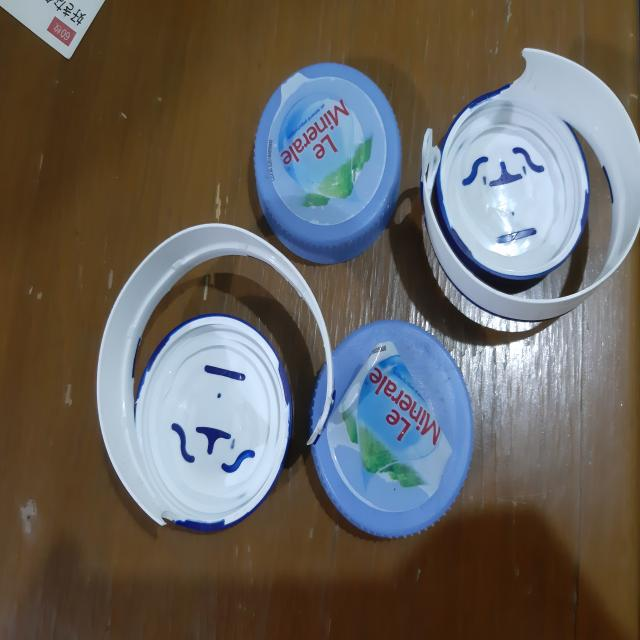TutupGalon: (95, 37, 640, 537)
